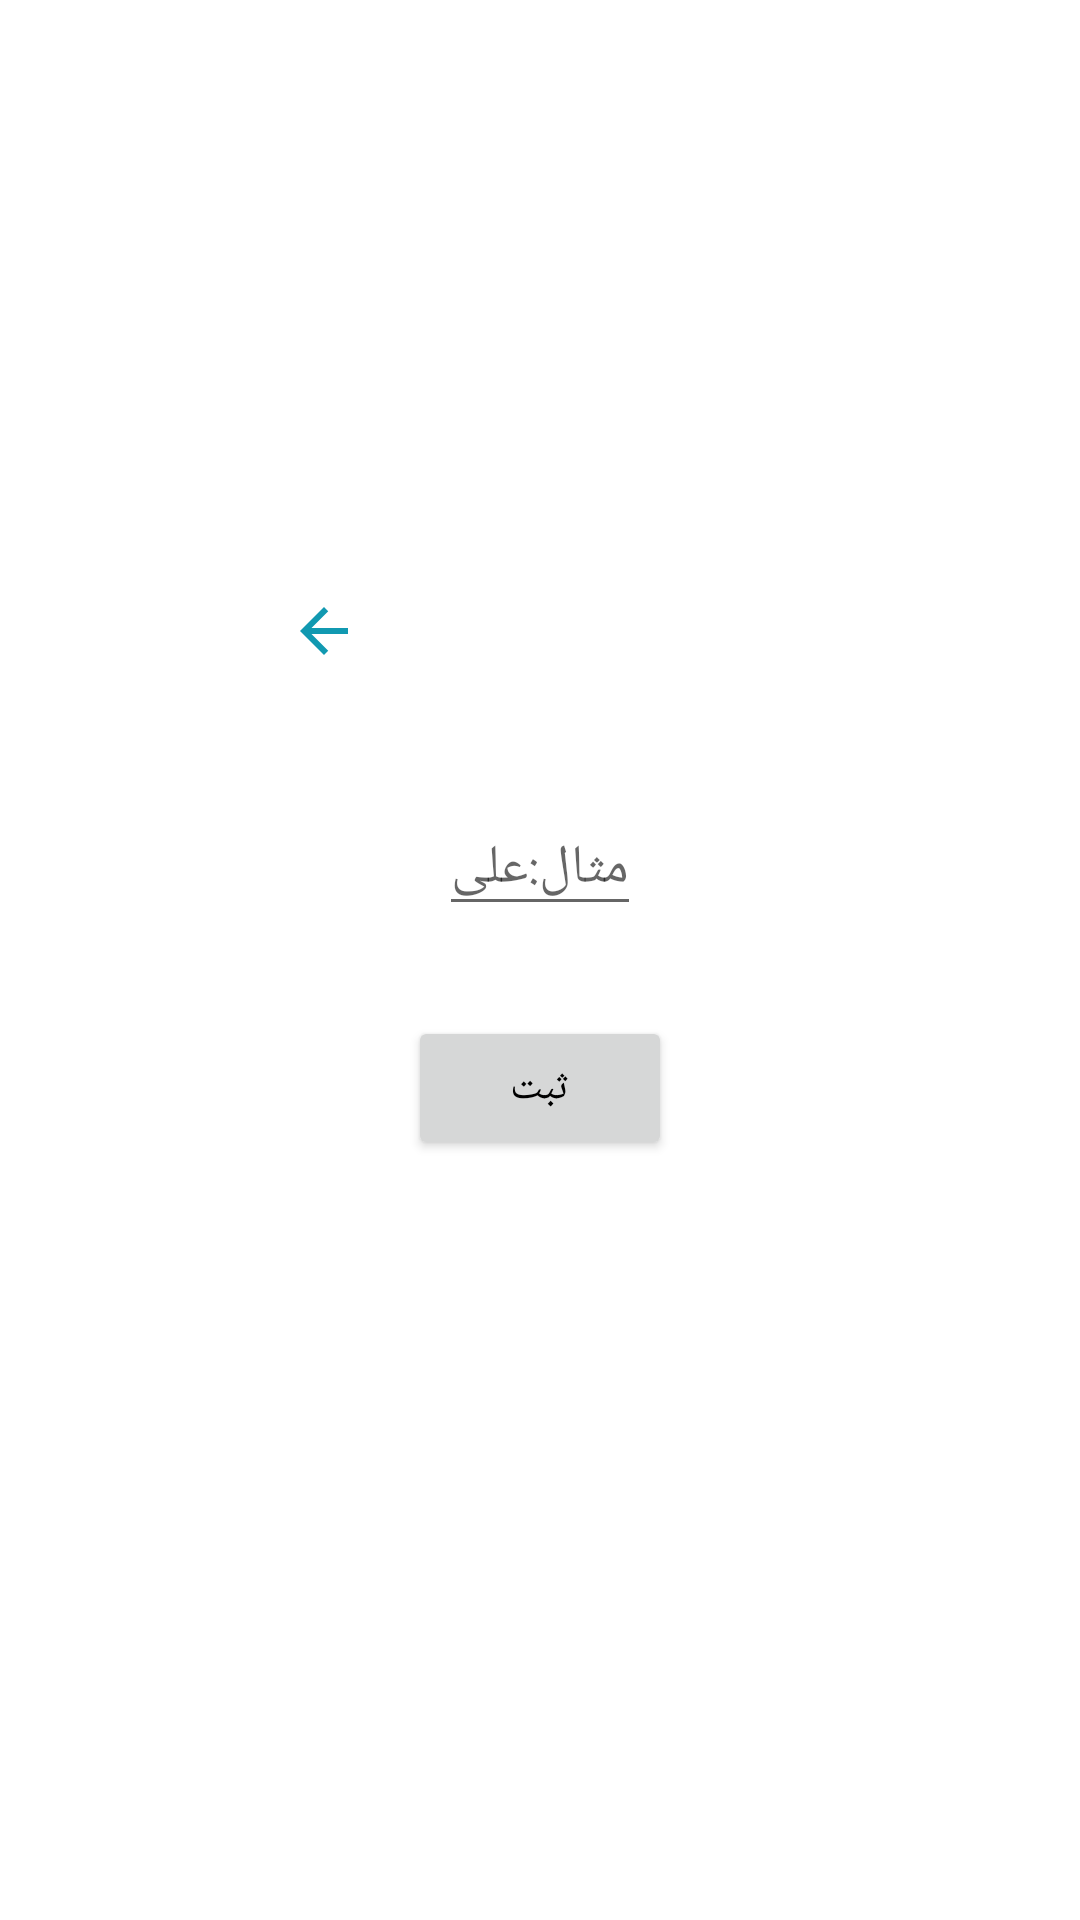

Where to tap for icons on this 1080px×1920px app screen, as point (x, y):
back: point (324, 631)
